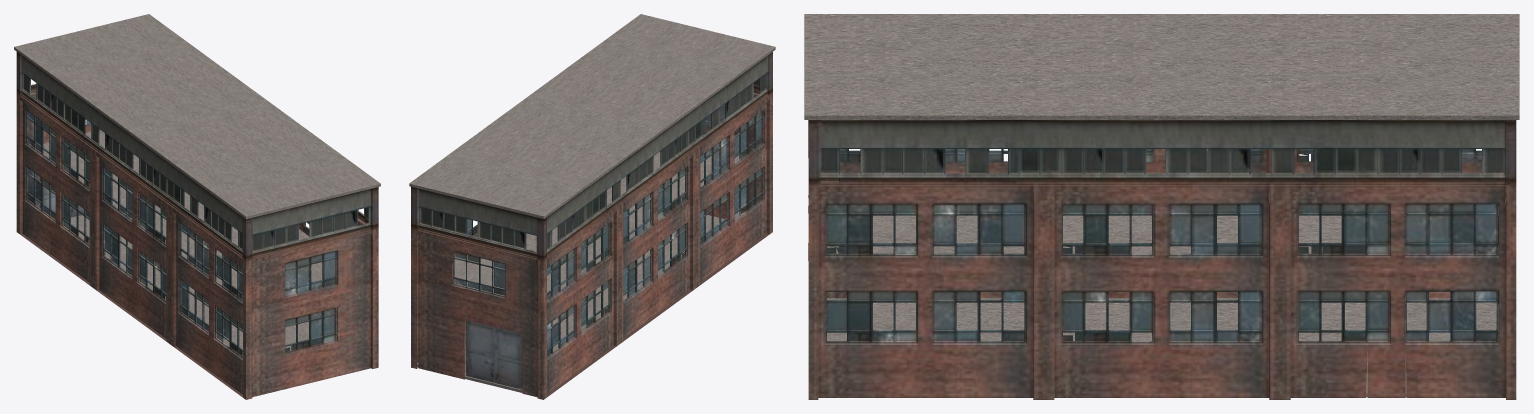
File: factory.glb
3 views of the same model, side by side, from view 1: azimuth 30°, elevation 25°; view 2: azimuth 150°, elevation 25°; view 3: azimuth 270°, elevation 25° (orthographic). The views are drawn at different scales.
Visible parts, largest first — view 1: building _building _0, building floor, building top, building windows; view 2: building _building _0 (×2), building floor, building top, building windows; view 3: building _building _0 (×2), building floor, building windows, building top.
Part boxes in pixels (x1,y1,x2,y2): building _building _0: (16, 89, 378, 399); building floor: (14, 14, 380, 355); building top: (16, 52, 378, 261); building windows: (24, 74, 368, 356); building _building _0 (×2): (411, 90, 772, 399); building floor: (409, 14, 775, 392); building top: (411, 52, 772, 261); building windows: (420, 74, 765, 356); building _building _0 (×2): (808, 120, 1516, 399); building floor: (804, 14, 1519, 397); building windows: (820, 149, 1503, 340); building top: (808, 120, 1516, 186).
Size of the model in its own units: 8.08 by 10.55 by 24.
3 materials, 3 textured.
